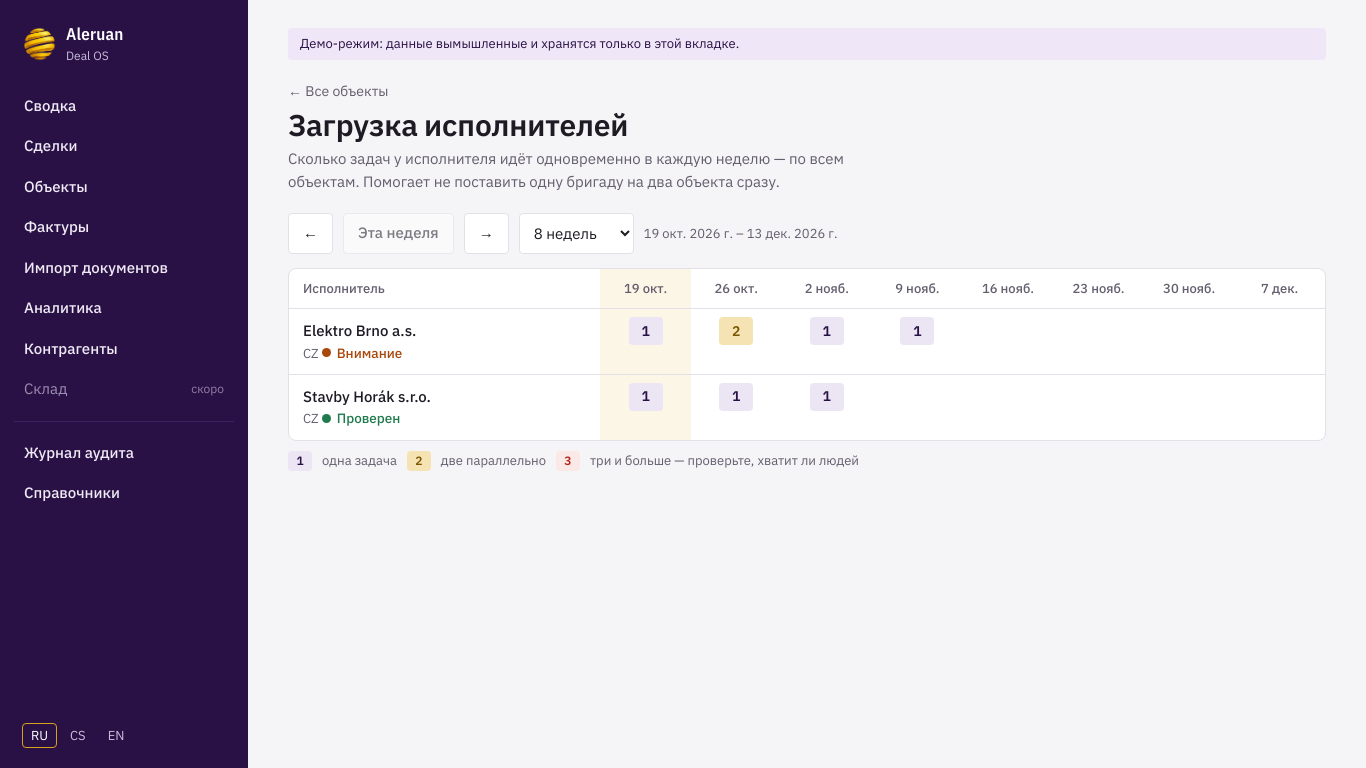
Test: site screens › shows workload per week and the tasks behind a cell
The image size is (1366, 768).
Click the button "2" at (736, 331), box [719,317,753,345]
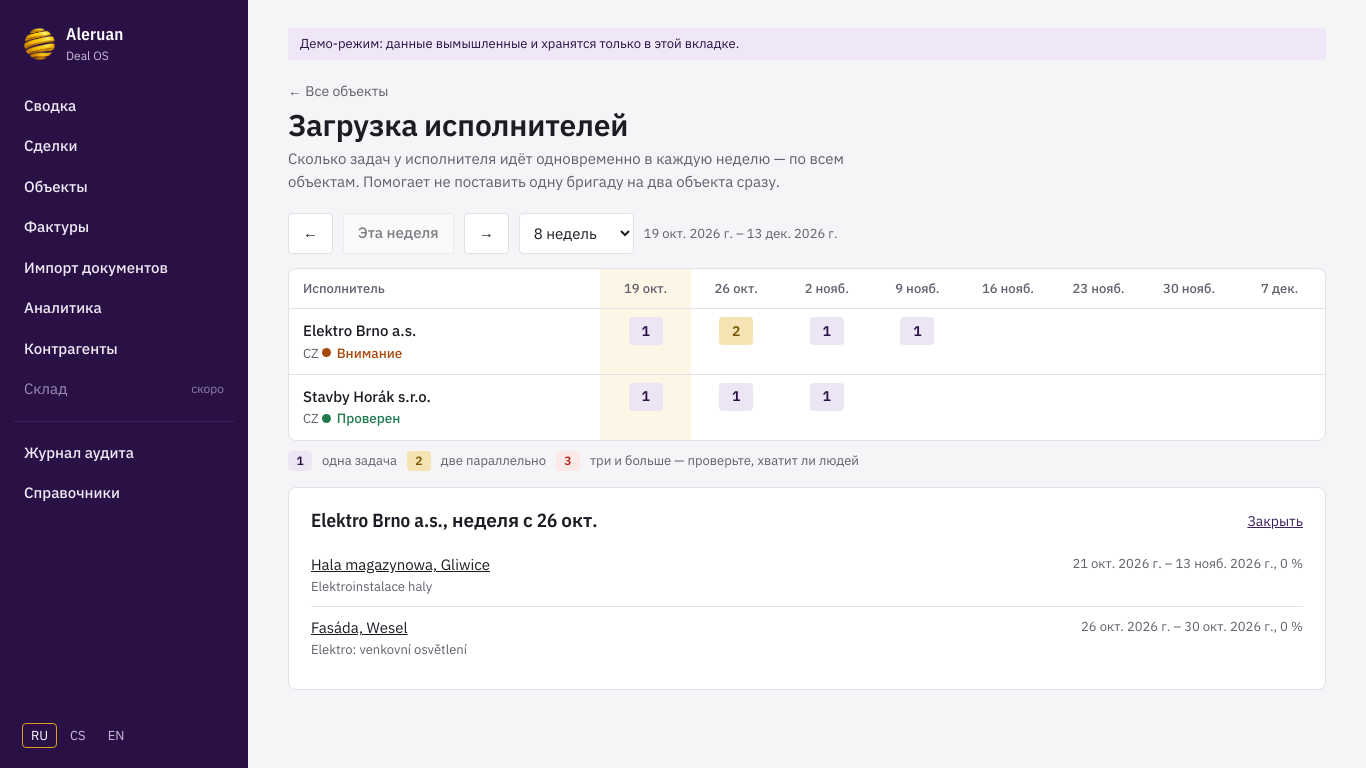
Expected: the link "Hala magazynowa, Gliwice" is shown, [311,555,490,574]
Expected: the link "Fasáda, Wesel" is shown, [311,618,408,637]
